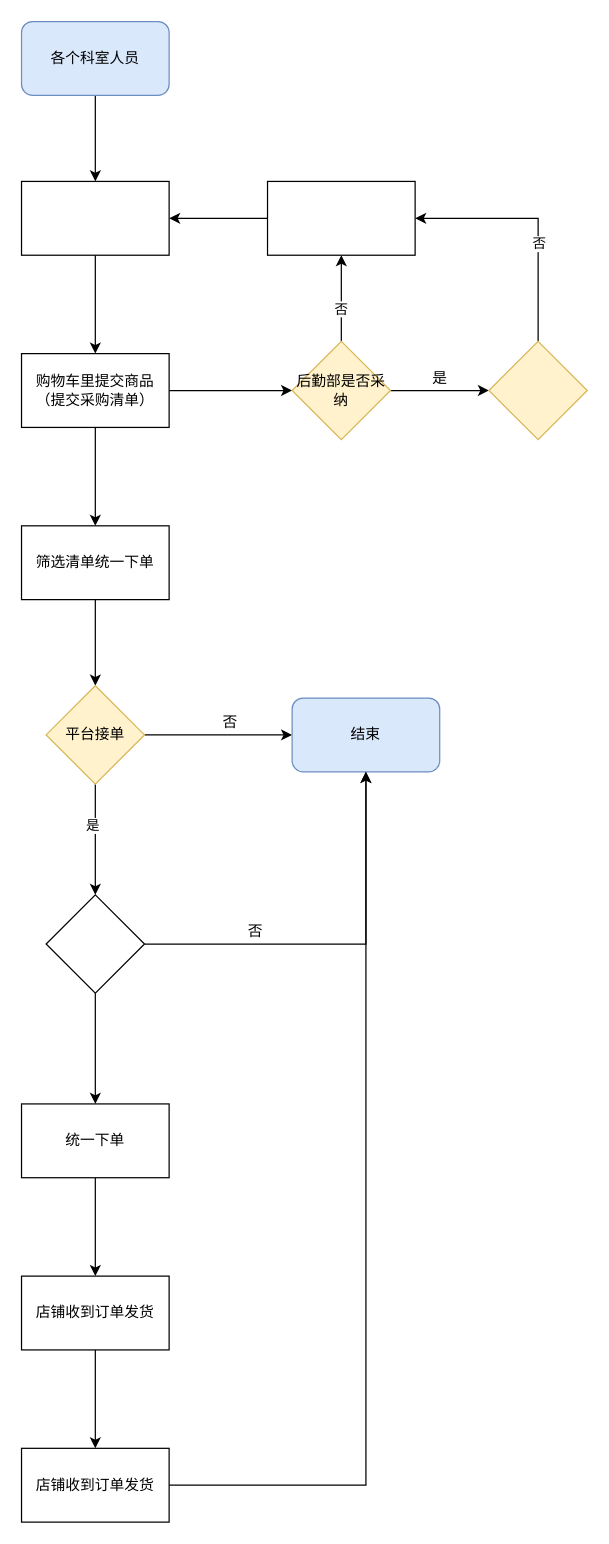
Image size: 609x1544. Some labels were removed from this diagram. Each missing label, with the centre of its shape:
科室重新申请: pixel 340 217
线下与后勤部签订合同: pixel 95 943
购物网站选购商品: pixel 94 217
院长是否采纳: pixel 537 390
